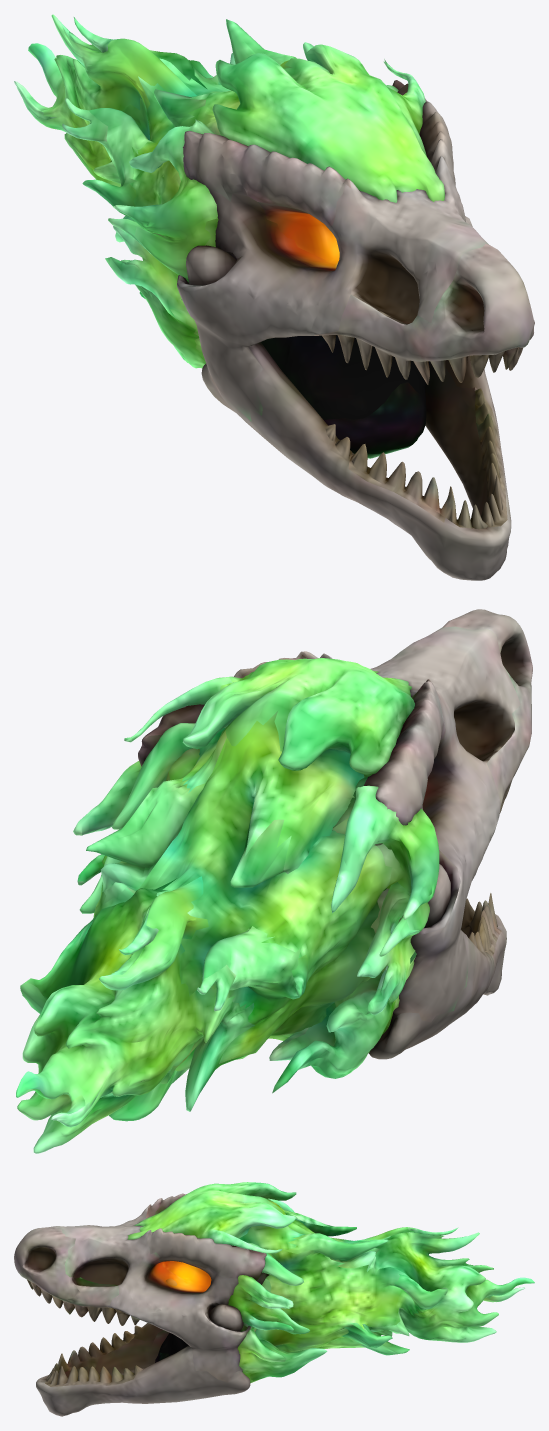
File: MZ4250 - Flaming Skull_Dragonborn_2025.glb
The picture shows the model from 3 angles, top to bottom: view 1: azimuth 30°, elevation 25°; view 2: azimuth 150°, elevation 25°; view 3: azimuth 270°, elevation 25°; orthographic projection. The views are drawn at different scales.
Visible parts, largest first — view 1: Fire Bolt.001; view 2: Fire Bolt.001; view 3: Fire Bolt.001.
Boxes of the visible parts, bbox=[...] form: Fire Bolt.001: bbox=[14, 14, 534, 580]; Fire Bolt.001: bbox=[16, 609, 532, 1153]; Fire Bolt.001: bbox=[14, 1182, 534, 1416].
Size of the model in its own units: 11.92 by 15.08 by 32.16.
Materials: 1 (1 with a texture image).
